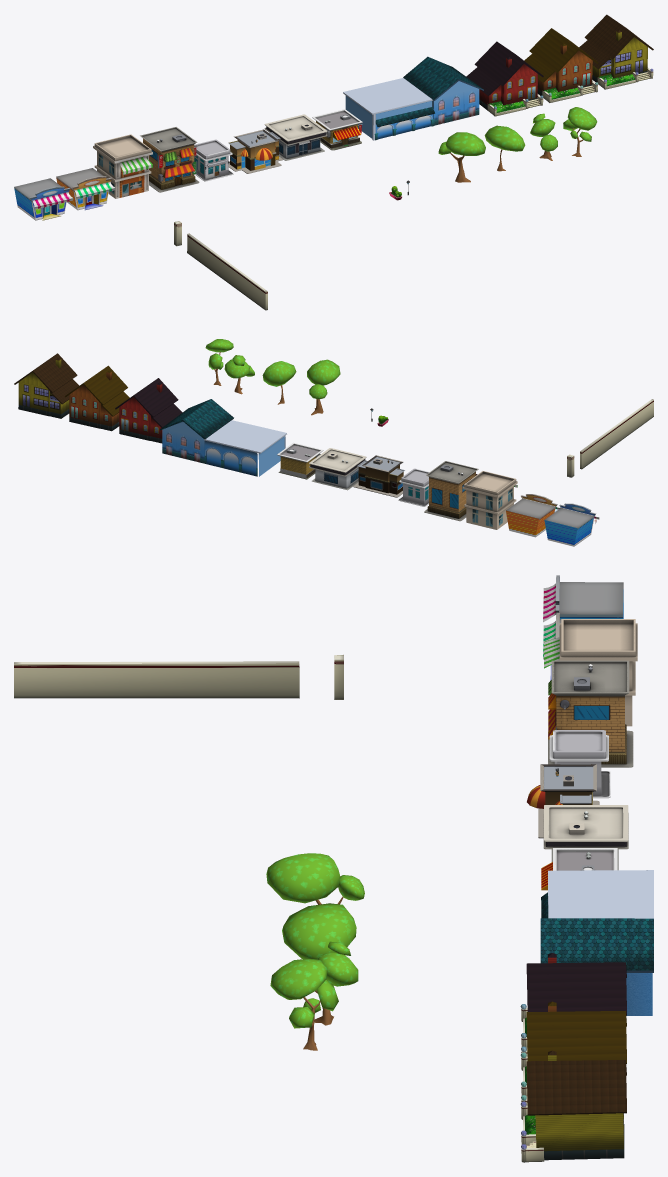
Rendered from Buildings.fbx.
The picture shows the model from 3 angles, top to bottom: view 1: azimuth 30°, elevation 25°; view 2: azimuth 150°, elevation 25°; view 3: azimuth 270°, elevation 25°; orthographic projection. The views are drawn at different scales.
Visible parts, largest first — view 1: Building8, Building7, Building10, Building9, Building6, Building1, Building3, Building4, Building12, wall1, Building11, Building2 (+5 smaller); view 2: Building8, Building10, Building9, Building7, Building1, Building6, Building12, Building3, Building4, Building11, wall1, Building2 (+5 smaller); view 3: Building8, wall1, Building10, Building6, Building9, Building7, Building1, Building3, C_tree_1, C_tree_3, C_tree_2, Building12 (+4 smaller).
Part boxes in pixels (x1,y1,x2,y2): Building8: (343, 56, 483, 140); Building7: (466, 41, 543, 116); Building10: (579, 14, 653, 89); Building9: (524, 28, 598, 102); Building6: (140, 127, 199, 192); Building1: (93, 134, 152, 198); Building3: (264, 114, 327, 160); Building4: (228, 129, 283, 173); Building12: (14, 178, 73, 220); wall1: (187, 233, 267, 310); Building11: (56, 168, 115, 210); Building2: (312, 109, 362, 150); Building8: (160, 399, 286, 476); Building10: (14, 353, 79, 418); Building9: (65, 365, 129, 431); Building7: (115, 378, 182, 443); Building1: (462, 471, 517, 529); Building6: (424, 461, 478, 521); Building12: (544, 503, 599, 546); Building3: (309, 448, 366, 490); Building4: (353, 455, 404, 497); Building11: (506, 494, 560, 537); wall1: (580, 399, 653, 469); Building2: (277, 442, 323, 479); Building8: (540, 870, 653, 1015); wall1: (14, 661, 299, 698); Building10: (520, 1050, 626, 1162); Building6: (548, 660, 633, 767); Building9: (520, 1001, 626, 1105); Building7: (520, 953, 626, 1056); Building1: (544, 619, 637, 726); Building3: (543, 805, 628, 870); C_tree_1: (266, 853, 364, 904); C_tree_3: (270, 958, 338, 1050); C_tree_2: (282, 903, 356, 959); Building12: (543, 575, 623, 622).
Size of the model in its own units: 104 by 8.19 by 51.24.
